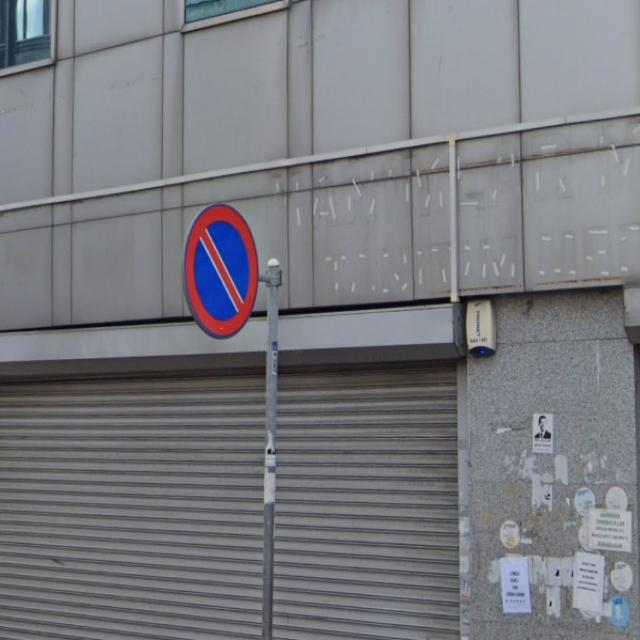parkyasak: (183, 204, 258, 339)
